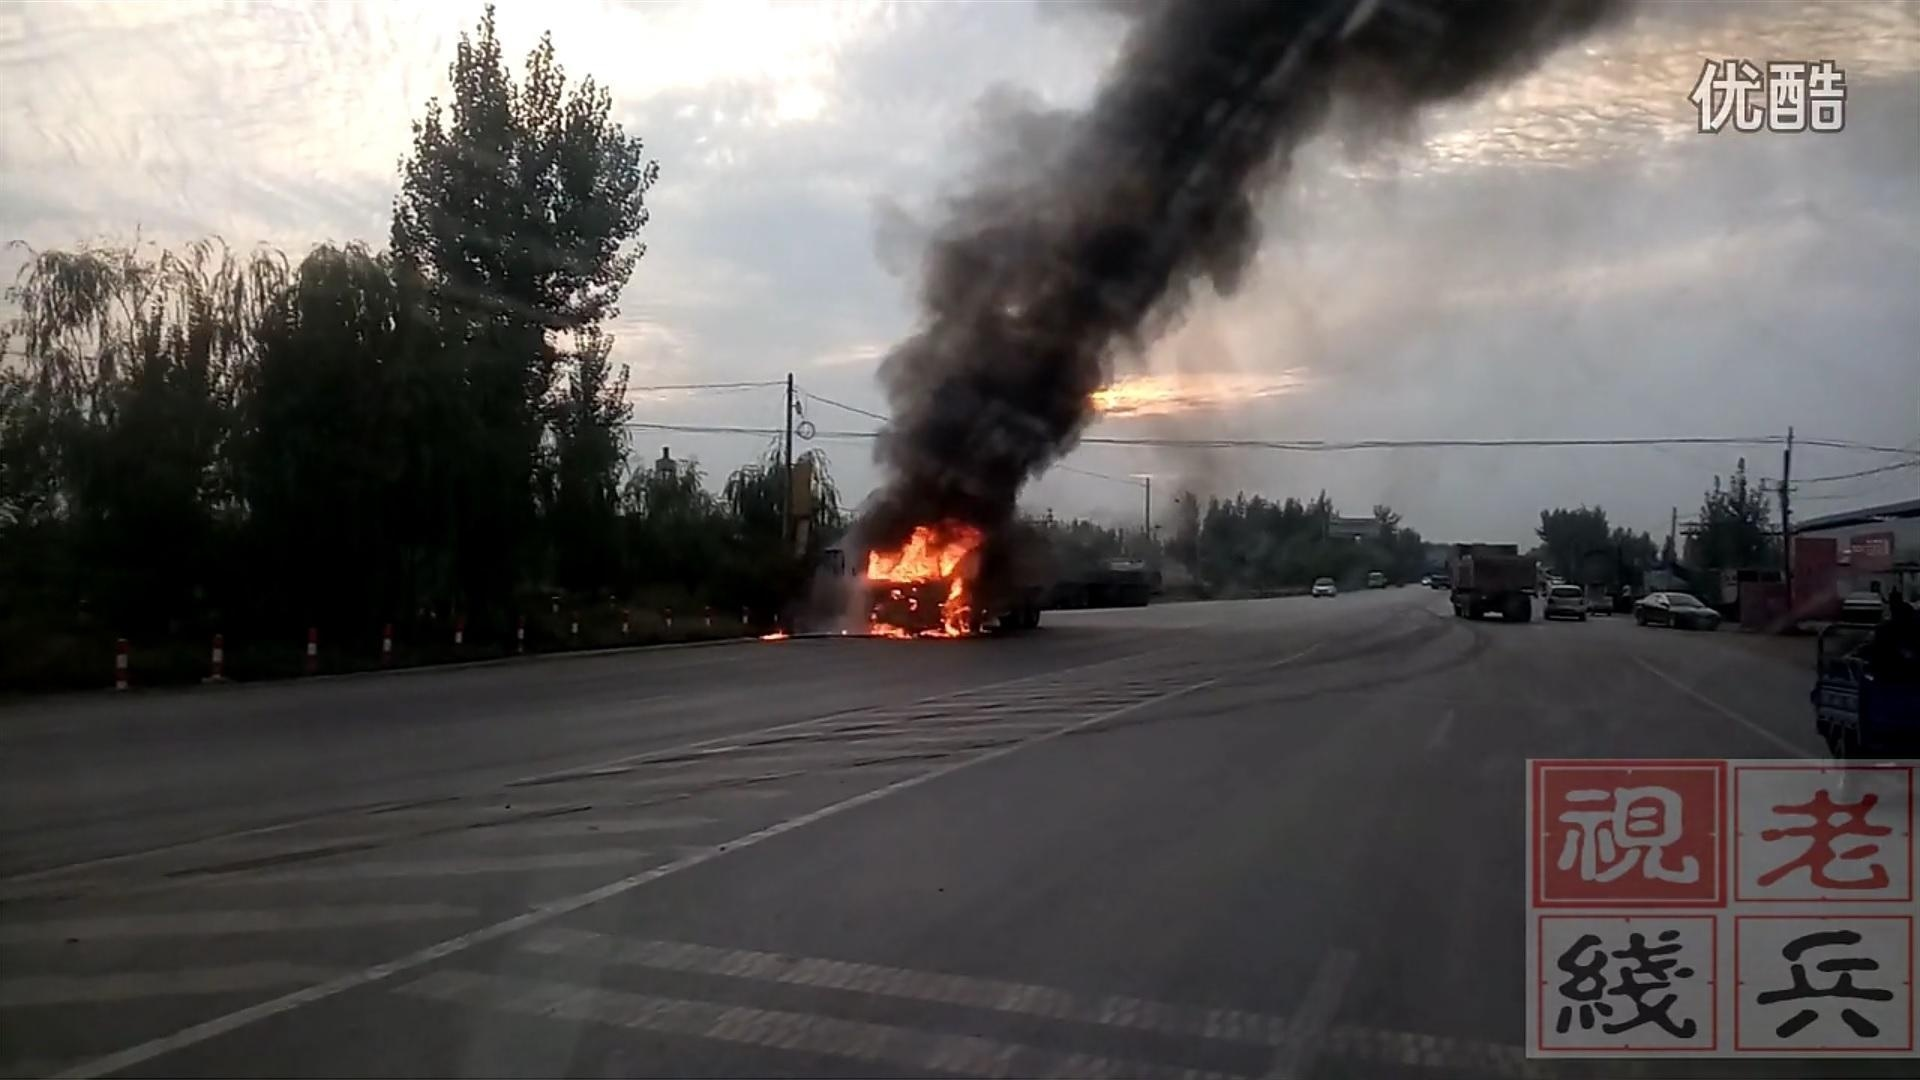fire: (853, 521, 982, 640)
